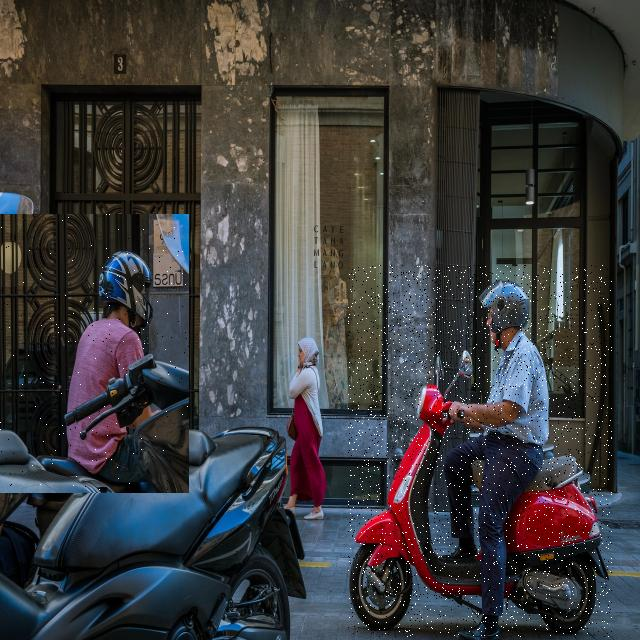With Helmet: (348, 265, 612, 637), (0, 214, 189, 493)
